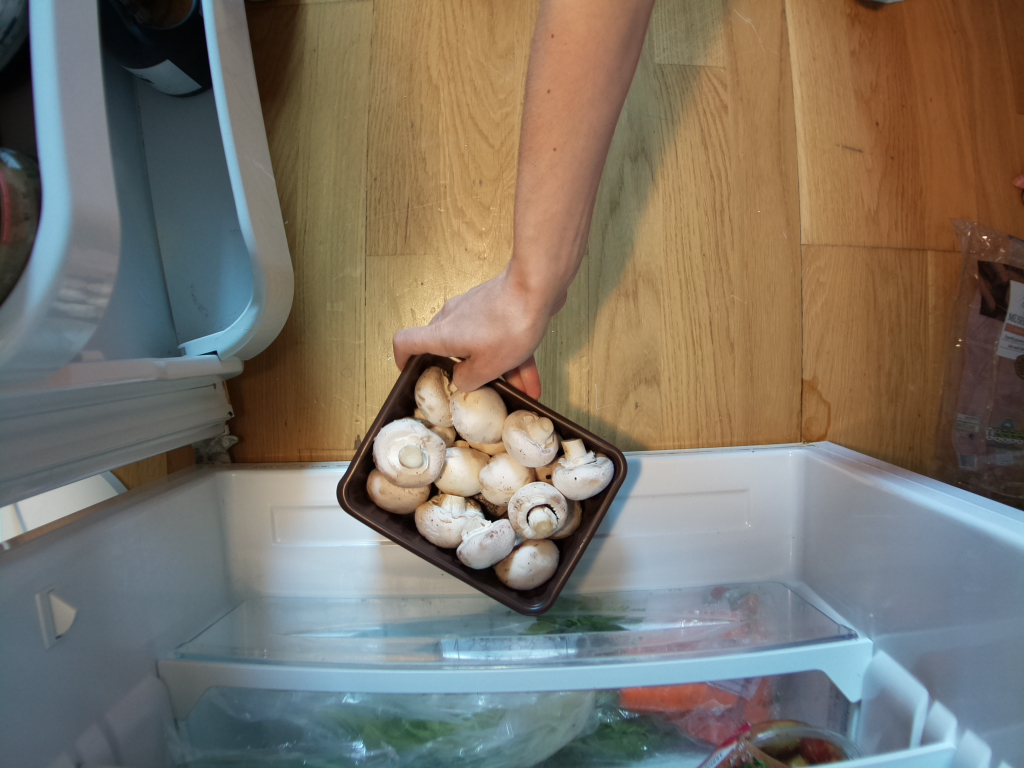mushrooms: (332, 330, 632, 625)
